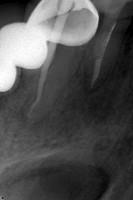Dental Caries: (63, 32, 133, 125)
Furcation Involvement: (18, 106, 50, 129)
